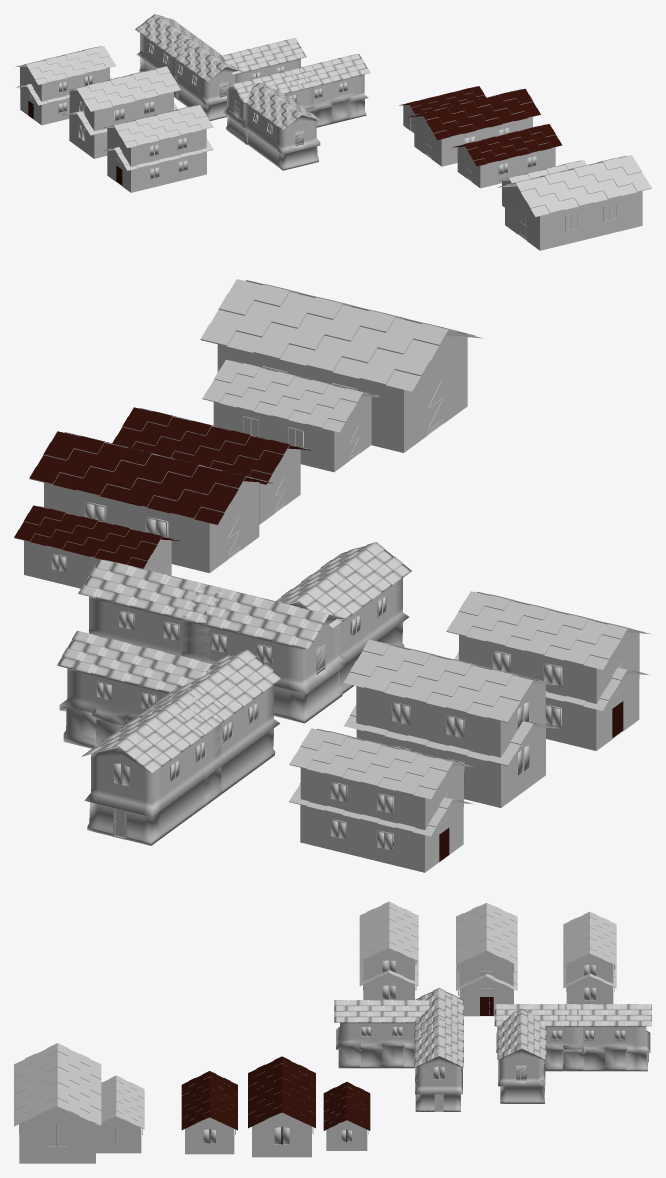
File: sevvalswoodvillage_updated.fbx
3 views of the same model, one above another, from view 1: azimuth 30°, elevation 25°; view 2: azimuth 150°, elevation 25°; view 3: azimuth 270°, elevation 25° (orthographic). The views are drawn at different scales.
Parts seen in each view (by area): view 1: Cube.015, Cube.006 (×2), Cube.001, Cube.003, Cube.002 (×2), Cube.008 (×2), Cube.005 (×2), Cube.013, Cube.004 (×2); view 2: Cube.006, Cube.001 (×2), Cube.015 (×2), Cube.002 (×2), Cube.008 (×2), Cube.013 (×2), Cube.003, Cube.005 (×2), Cube.004 (×2); view 3: Cube.006 (×2), Cube.001, Cube.015, Cube.008 (×2), Cube.002, Cube.003, Cube.013, Cube.005 (×2), Cube.004 (×2).
Part boxes in pixels (x1,y1,x2,y2): Cube.015: (221, 54, 370, 170); Cube.006 (×2): (496, 155, 651, 250); Cube.001: (135, 14, 306, 120); Cube.003: (101, 105, 213, 192); Cube.002 (×2): (62, 66, 180, 158); Cube.008 (×2): (408, 88, 540, 166); Cube.005 (×2): (452, 124, 561, 188); Cube.013: (14, 46, 115, 125); Cube.004 (×2): (399, 86, 485, 133); Cube.006: (200, 279, 482, 472); Cube.001 (×2): (57, 630, 282, 845); Cube.015 (×2): (78, 542, 411, 723); Cube.002 (×2): (343, 639, 558, 807); Cube.008 (×2): (29, 431, 272, 573); Cube.013 (×2): (289, 728, 473, 872); Cube.003: (446, 591, 651, 750); Cube.005 (×2): (112, 407, 311, 524); Cube.004 (×2): (14, 505, 180, 588); Cube.006 (×2): (14, 1043, 144, 1163); Cube.001: (494, 1004, 651, 1103); Cube.015: (334, 988, 463, 1111); Cube.008 (×2): (248, 1056, 315, 1157); Cube.002: (456, 903, 517, 1016); Cube.003: (359, 901, 418, 1000); Cube.013: (563, 911, 616, 1004); Cube.005 (×2): (181, 1071, 237, 1154); Cube.004 (×2): (323, 1082, 370, 1150).
Size of the model in its own units: 79.22 by 14.72 by 109.
